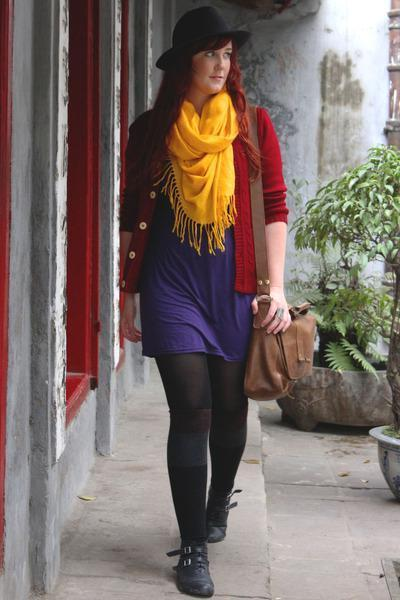dress: (132, 158, 262, 366)
sweater: (114, 98, 292, 300)
